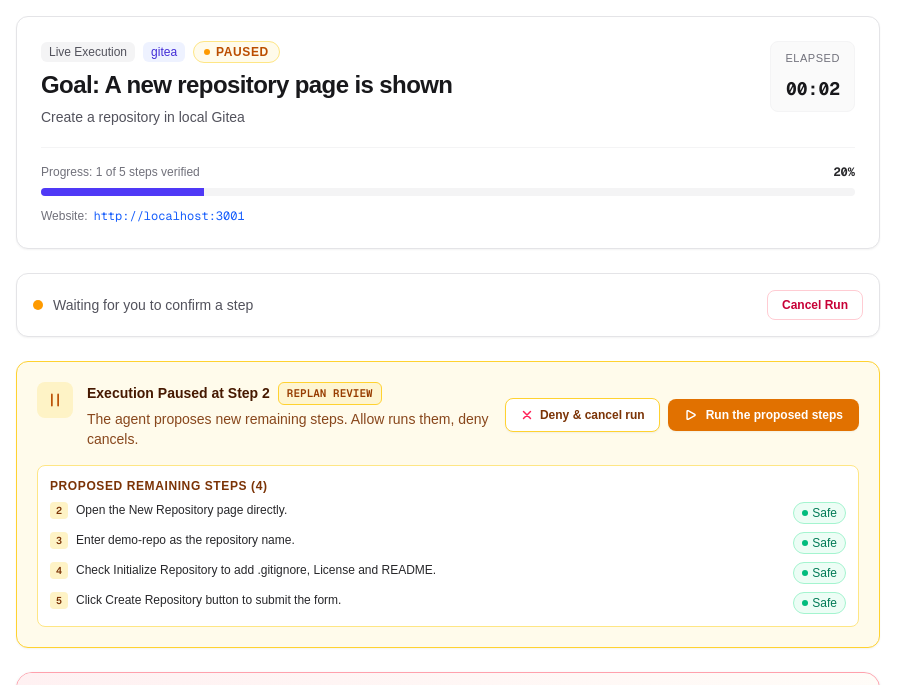
Test: LiveExecutionView › replan_review shows the proposed steps with Allow / Deny
Check: the element with test id "proposed-steps" is shown, box [37,464,859,626]
Check: the list item with test id "proposed-step-item" shows "Open the New Repository page directly.", box [76,502,287,516]
Click the button with test id "resume-run-btn".
click(763, 415)  # box [668,399,859,431]
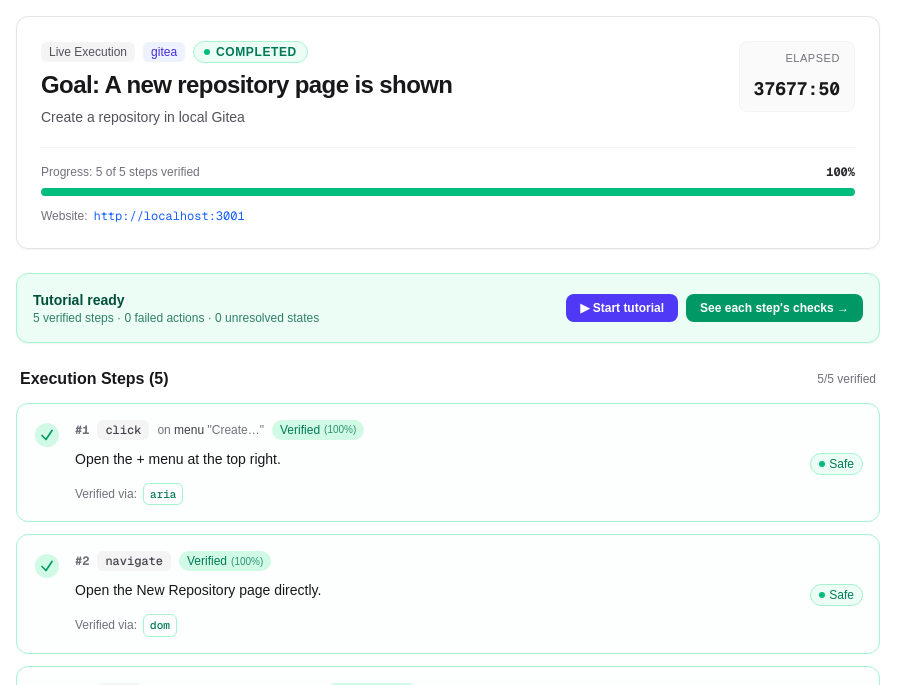
Check: the message with test id "completion-banner" is shown, box [16,273,880,343]
